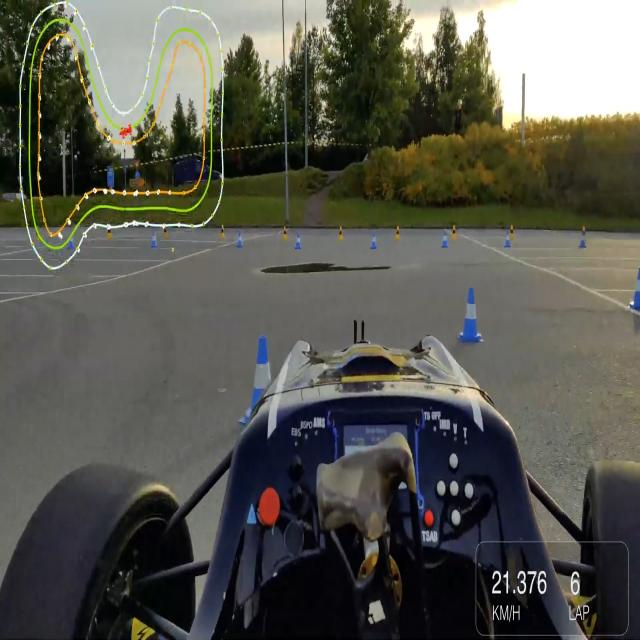blue_cone: (458, 285, 482, 345), (250, 330, 270, 401), (632, 267, 640, 311), (150, 227, 157, 249), (370, 230, 377, 251), (68, 229, 75, 250), (236, 228, 243, 248), (580, 227, 586, 248), (295, 231, 301, 252), (504, 228, 510, 247), (442, 230, 447, 250)
yellow_cone: (508, 222, 516, 244), (581, 224, 588, 244), (452, 222, 458, 244), (219, 223, 226, 240), (282, 223, 288, 242), (163, 221, 169, 239), (107, 222, 113, 240), (338, 224, 343, 242), (395, 225, 400, 241)
